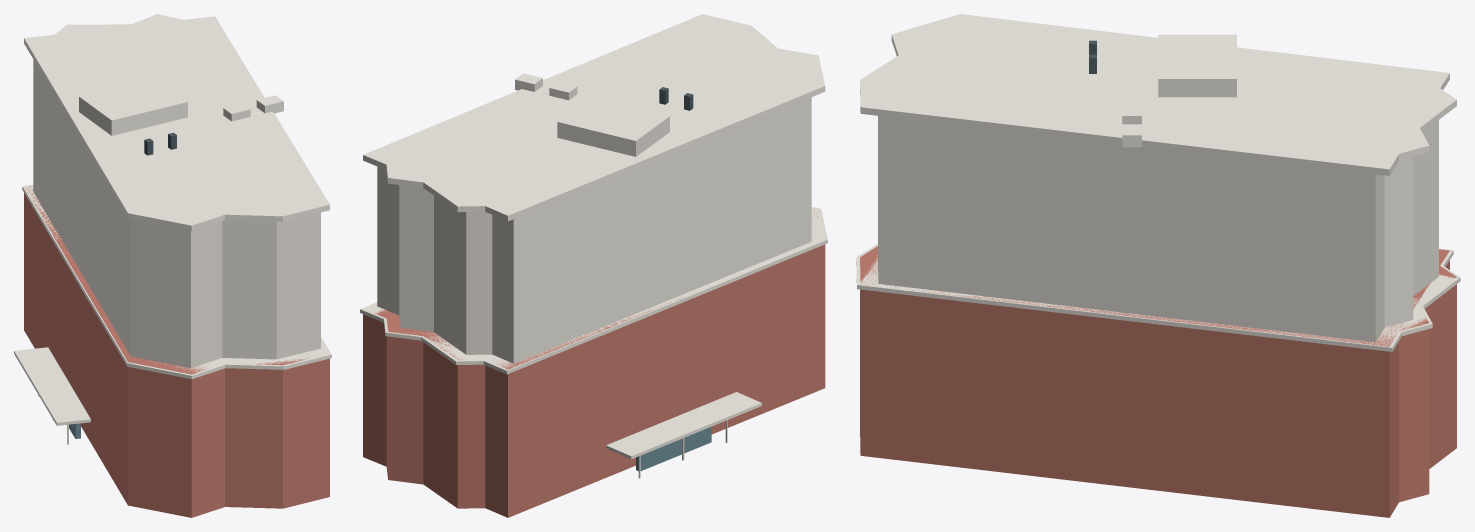
The model's file is yip_kit_chuen_building.glb.
3 views of the same model, side by side, from view 1: azimuth 30°, elevation 25°; view 2: azimuth 150°, elevation 25°; view 3: azimuth 270°, elevation 25° (orthographic). The views are drawn at different scales.
Visible parts, largest first — view 1: Yip Kit Chuen Building_base, Yip Kit Chuen Building_upper, Yip Kit Chuen Building_parapet, Yip Kit Chuen Building_roof_plant, Yip Kit Chuen Building_band, Yip Kit Chuen Building_canopy, Yip Kit Chuen Building_ac_1, Yip Kit Chuen Building_ac_0; view 2: Yip Kit Chuen Building_base, Yip Kit Chuen Building_upper, Yip Kit Chuen Building_parapet, Yip Kit Chuen Building_band, Yip Kit Chuen Building_roof_plant, Yip Kit Chuen Building_canopy, Yip Kit Chuen Building_door; view 3: Yip Kit Chuen Building_base, Yip Kit Chuen Building_upper, Yip Kit Chuen Building_parapet, Yip Kit Chuen Building_band, Yip Kit Chuen Building_roof_plant.
Boxes of the visible parts, x1=… form: Yip Kit Chuen Building_base: x1=24, y1=186, x2=329, y2=517; Yip Kit Chuen Building_upper: x1=33, y1=60, x2=320, y2=367; Yip Kit Chuen Building_parapet: x1=24, y1=14, x2=329, y2=230; Yip Kit Chuen Building_roof_plant: x1=79, y1=78, x2=187, y2=135; Yip Kit Chuen Building_band: x1=22, y1=185, x2=331, y2=379; Yip Kit Chuen Building_canopy: x1=14, y1=347, x2=90, y2=425; Yip Kit Chuen Building_ac_1: x1=256, y1=95, x2=283, y2=113; Yip Kit Chuen Building_ac_0: x1=223, y1=103, x2=250, y2=121; Yip Kit Chuen Building_base: x1=363, y1=210, x2=825, y2=517; Yip Kit Chuen Building_upper: x1=377, y1=97, x2=811, y2=363; Yip Kit Chuen Building_parapet: x1=363, y1=14, x2=825, y2=221; Yip Kit Chuen Building_band: x1=360, y1=207, x2=827, y2=374; Yip Kit Chuen Building_roof_plant: x1=557, y1=97, x2=669, y2=156; Yip Kit Chuen Building_canopy: x1=606, y1=392, x2=761, y2=459; Yip Kit Chuen Building_door: x1=636, y1=426, x2=711, y2=470; Yip Kit Chuen Building_base: x1=860, y1=246, x2=1456, y2=517; Yip Kit Chuen Building_upper: x1=878, y1=116, x2=1438, y2=342; Yip Kit Chuen Building_parapet: x1=860, y1=14, x2=1456, y2=175; Yip Kit Chuen Building_band: x1=856, y1=244, x2=1460, y2=351; Yip Kit Chuen Building_roof_plant: x1=1158, y1=34, x2=1236, y2=97.
Size of the model in its own units: 28.76 by 30.9 by 46.11.
